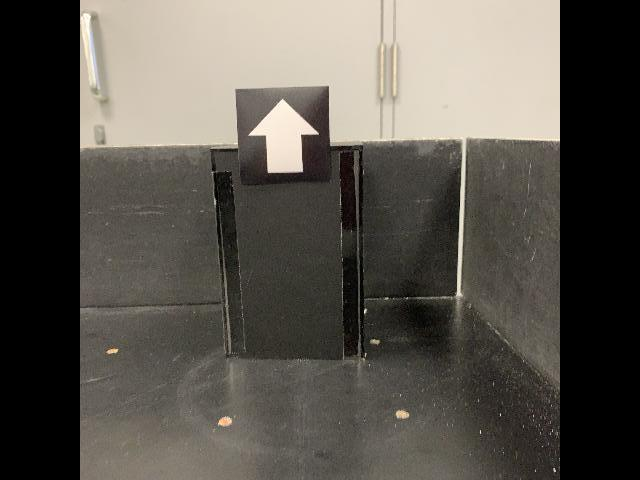up: (234, 85, 332, 185)
